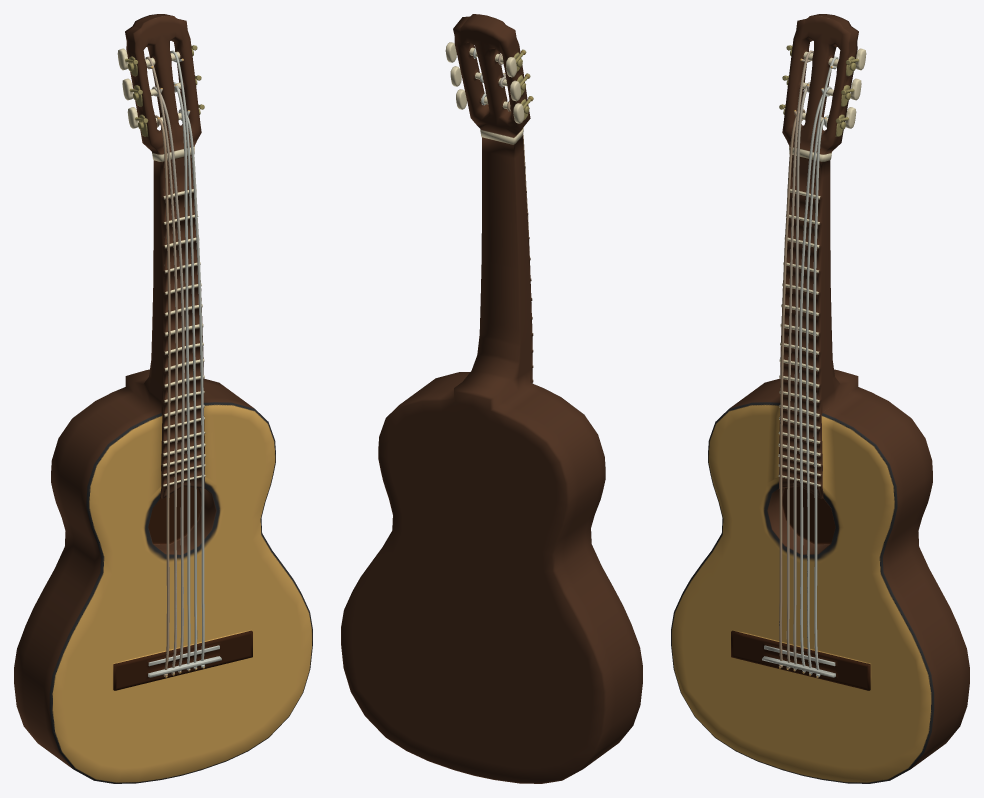
The model's file is GuitarraComp.fbx.
The picture shows the model from 3 angles, left to right: view 1: azimuth 30°, elevation 25°; view 2: azimuth 150°, elevation 25°; view 3: azimuth 330°, elevation 25°; orthographic projection.
Parts seen in each view (by area): view 1: GuitarraComp; view 2: GuitarraComp; view 3: GuitarraComp.
Part boxes in pixels (bbox=[...]): GuitarraComp: bbox=[14, 14, 312, 783]; GuitarraComp: bbox=[341, 14, 642, 783]; GuitarraComp: bbox=[671, 14, 969, 783].
Size of the model in its own units: 35.24 by 9.73 by 95.04.
Materials: 1 (1 with a texture image).
